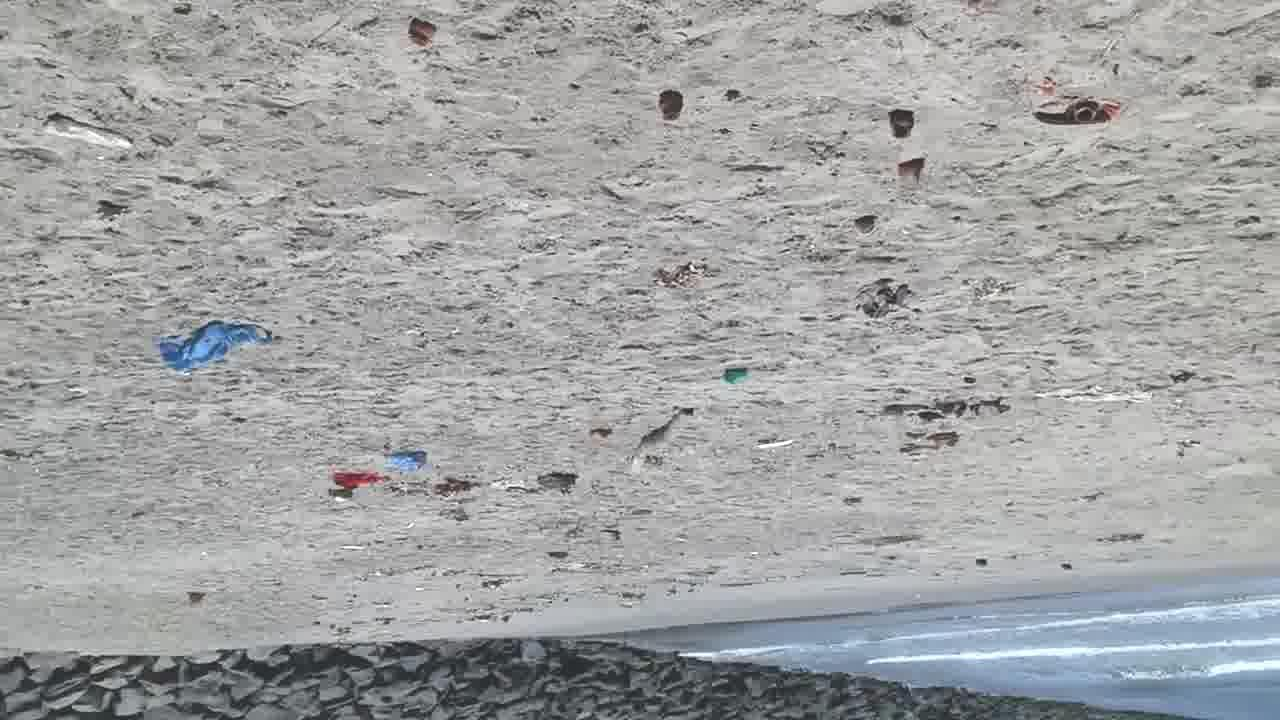obj: (152, 320, 286, 376), (629, 404, 697, 478), (880, 394, 1016, 428), (34, 111, 137, 152), (852, 273, 914, 323), (1027, 100, 1115, 130), (654, 260, 726, 293), (327, 468, 387, 502), (534, 468, 580, 502), (886, 108, 919, 150), (406, 11, 442, 49), (380, 447, 430, 473), (428, 474, 478, 499), (891, 154, 923, 190), (654, 86, 684, 124), (844, 212, 876, 239), (719, 366, 748, 391), (178, 591, 207, 610)
sand/background: (0, 558, 1279, 719)
